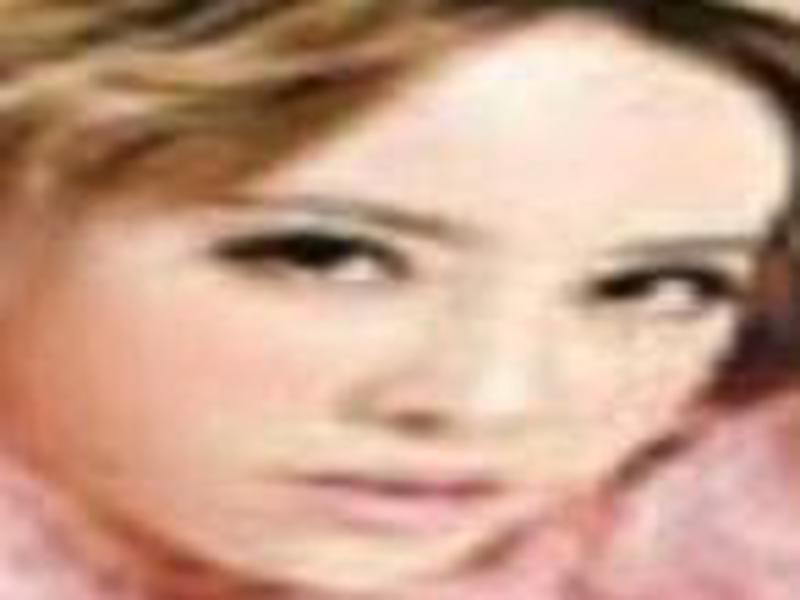without_mask: (10, 16, 793, 591)
